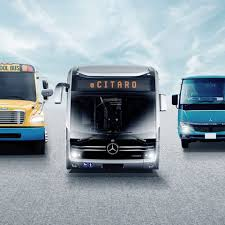bus: (54, 64, 168, 175), (1, 63, 53, 154), (172, 74, 225, 148)
